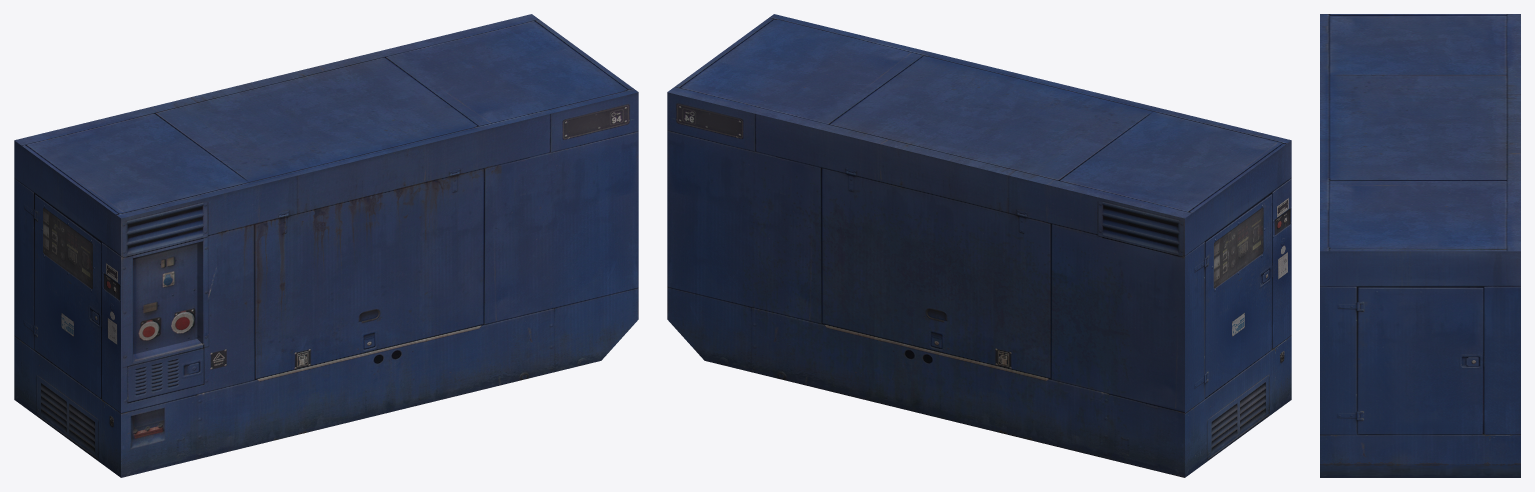
File: Generator_v1.FBX
3 renders of one model, left to right at view 1: azimuth 30°, elevation 25°; view 2: azimuth 150°, elevation 25°; view 3: azimuth 270°, elevation 25°, orthographic. The views are drawn at different scales.
Visible parts, largest first — view 1: Generator_v1; view 2: Generator_v1; view 3: Generator_v1.
Boxes of the visible parts, <box> form: Generator_v1: <box>14,14,638,477</box>; Generator_v1: <box>667,14,1291,477</box>; Generator_v1: <box>1320,14,1520,477</box>.
Bounding box in the file's own units: 3.65 × 1.75 × 1.31.
